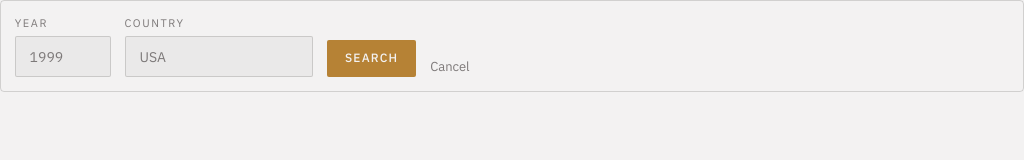
Test: CoinSearchPicker › results › shows the empty state when nothing is found
The width and height of the screenshot is (1024, 160).
Click the button with test id "coin-search-submit" at (372, 58), box [327,40,416,77]
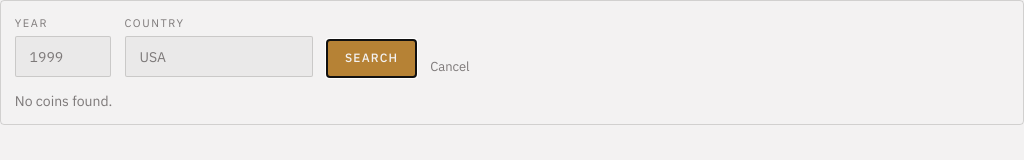
Now the text with test id "coin-search-empty" reads "No coins found.", box [15,92,112,110]
